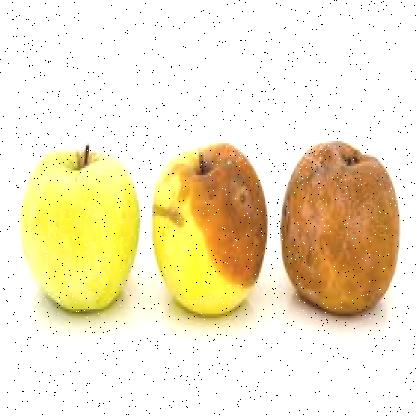apple: (18, 157, 143, 311)
damaged_apple: (275, 141, 400, 325), (149, 134, 267, 318)
